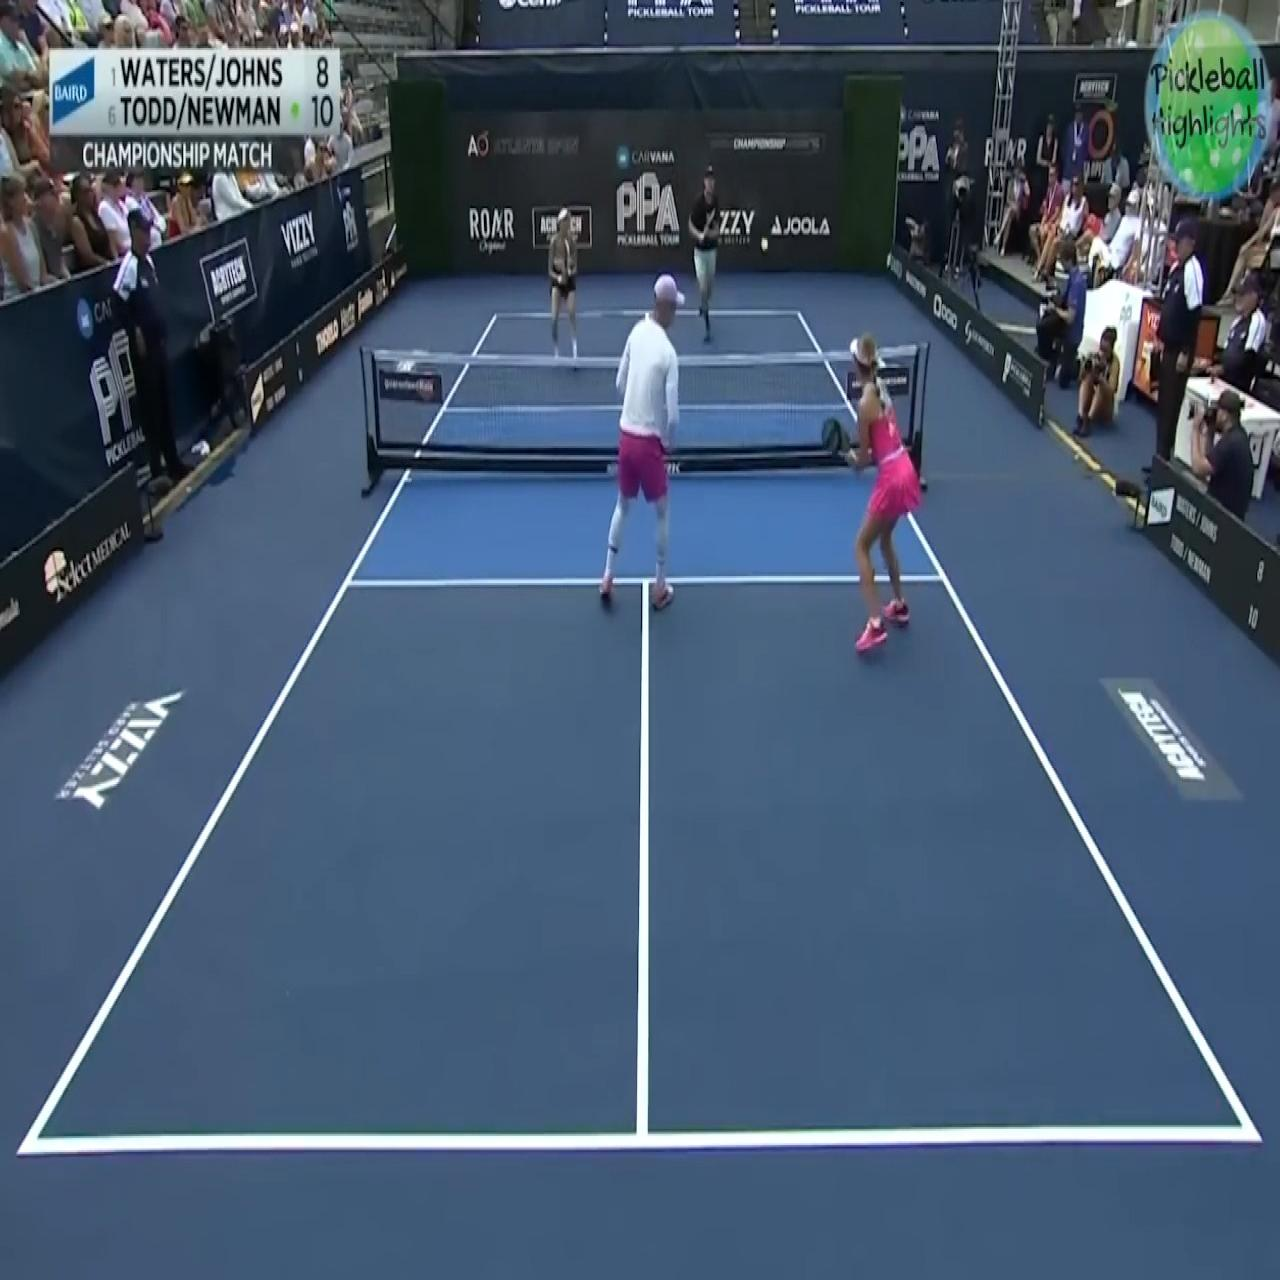Pickleball: (758, 234, 769, 257)
